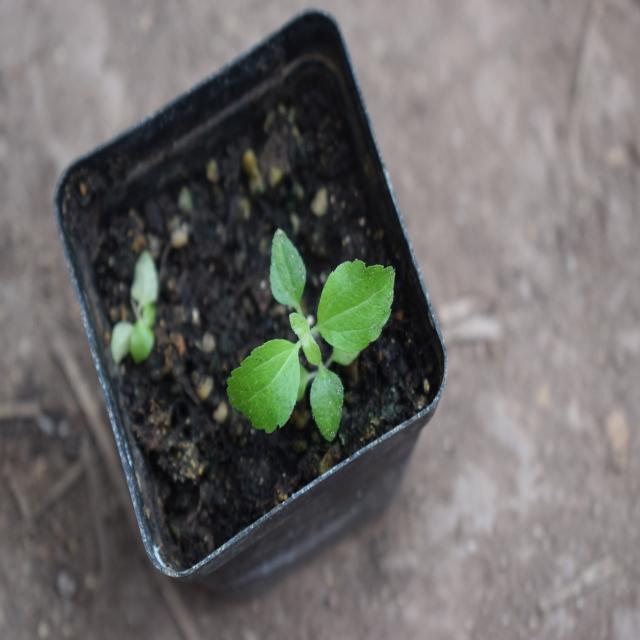billygoat_weed: (230, 229, 415, 453)
